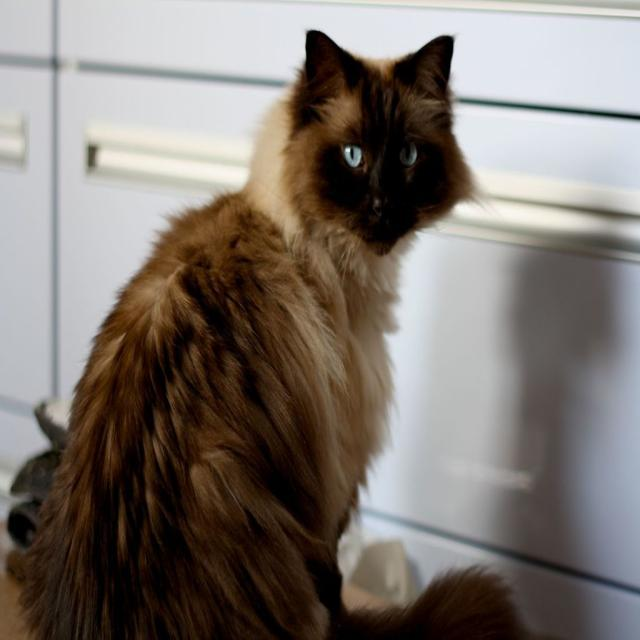Cat: (0, 28, 534, 639)
